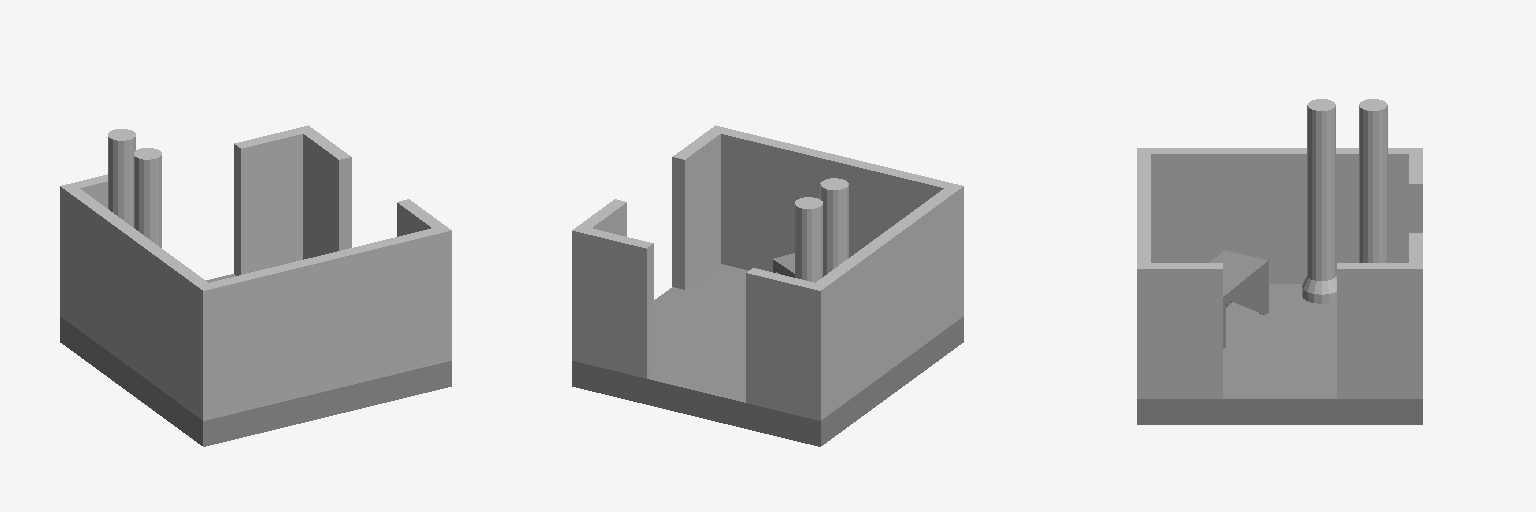
The model's file is big-corner-room_2.obj.
3 renders of one model, left to right at view 1: azimuth 30°, elevation 25°; view 2: azimuth 150°, elevation 25°; view 3: azimuth 270°, elevation 25°, orthographic.
Visible parts, largest first — view 1: Cube.005, Cube, Cylinder_Cylinder.001; view 2: Cube.005, Cube, Cylinder_Cylinder.001; view 3: Cube.005, Cube, Cylinder_Cylinder.001, Cube.007.
Part boxes in pixels (bbox=[...]): Cube.005: bbox=[60, 125, 451, 420]; Cube: bbox=[60, 274, 451, 446]; Cylinder_Cylinder.001: bbox=[108, 129, 161, 247]; Cube.005: bbox=[572, 125, 963, 420]; Cube: bbox=[572, 264, 963, 446]; Cylinder_Cylinder.001: bbox=[795, 178, 848, 282]; Cube.005: bbox=[1137, 148, 1422, 398]; Cube: bbox=[1137, 284, 1422, 424]; Cylinder_Cylinder.001: bbox=[1302, 99, 1387, 303]; Cube.007: bbox=[1209, 250, 1268, 348].
Size of the model in its own units: 10 by 8.33 by 10.